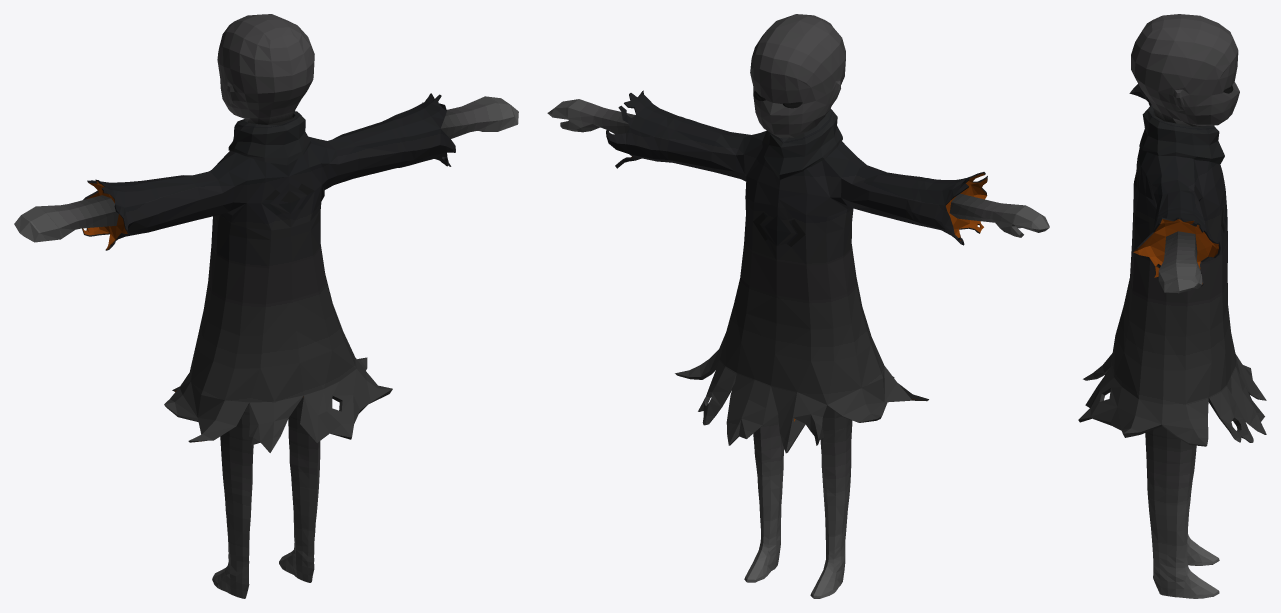
The model's file is CharSkyKid_Body_Witch.glb.
3 views of the same model, side by side, from view 1: azimuth 30°, elevation 25°; view 2: azimuth 150°, elevation 25°; view 3: azimuth 270°, elevation 25° (orthographic).
Parts seen in each view (by area): view 1: CharSkyKid_Body_Witch; view 2: CharSkyKid_Body_Witch; view 3: CharSkyKid_Body_Witch.
Part boxes in pixels (x1=…): CharSkyKid_Body_Witch: x1=14, y1=14, x2=518, y2=598; CharSkyKid_Body_Witch: x1=547, y1=14, x2=1049, y2=598; CharSkyKid_Body_Witch: x1=1078, y1=14, x2=1266, y2=598.
Size of the model in its own units: 13.9 by 14.94 by 4.56.
Materials: 1 (1 with a texture image).
